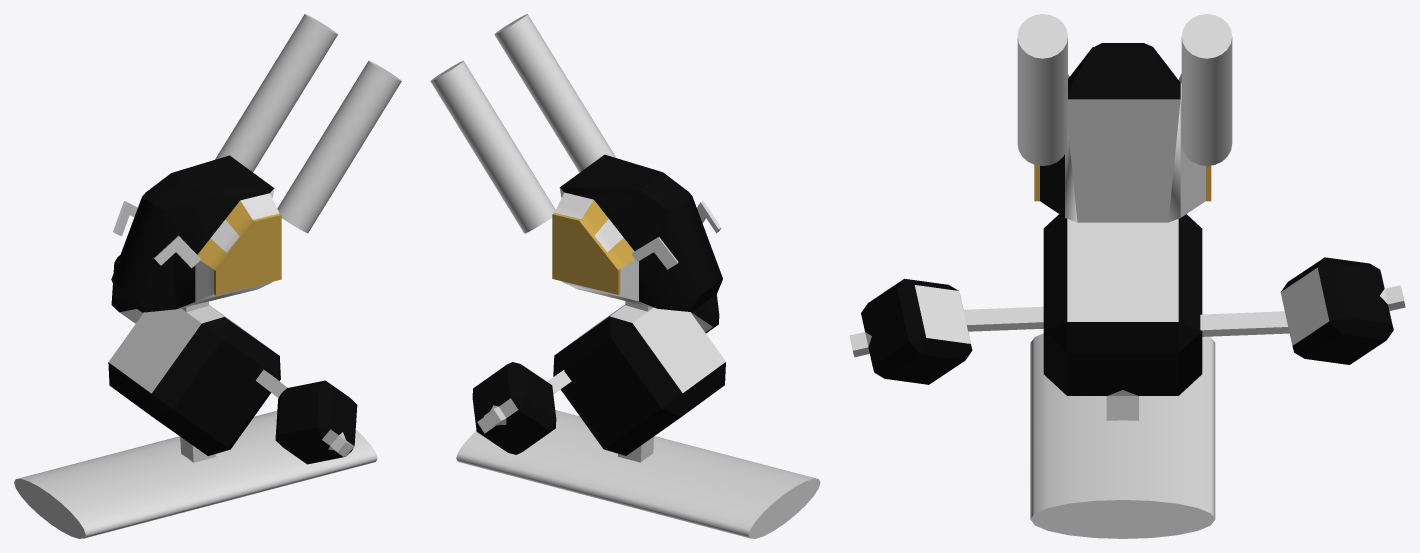
File: Player-placeholder.fbx
The picture shows the model from 3 angles, left to right: view 1: azimuth 30°, elevation 25°; view 2: azimuth 150°, elevation 25°; view 3: azimuth 270°, elevation 25°; orthographic projection. The views are drawn at different scales.
Parts seen in each view (by area): view 1: pCube6; view 2: pCube6; view 3: pCube6.
Part boxes in pixels (x1,y1,x2,y2): pCube6: (14,14,401,538); pCube6: (430,14,820,538); pCube6: (849,14,1405,538).
Size of the model in its own units: 5.11 by 6.33 by 6.01.
